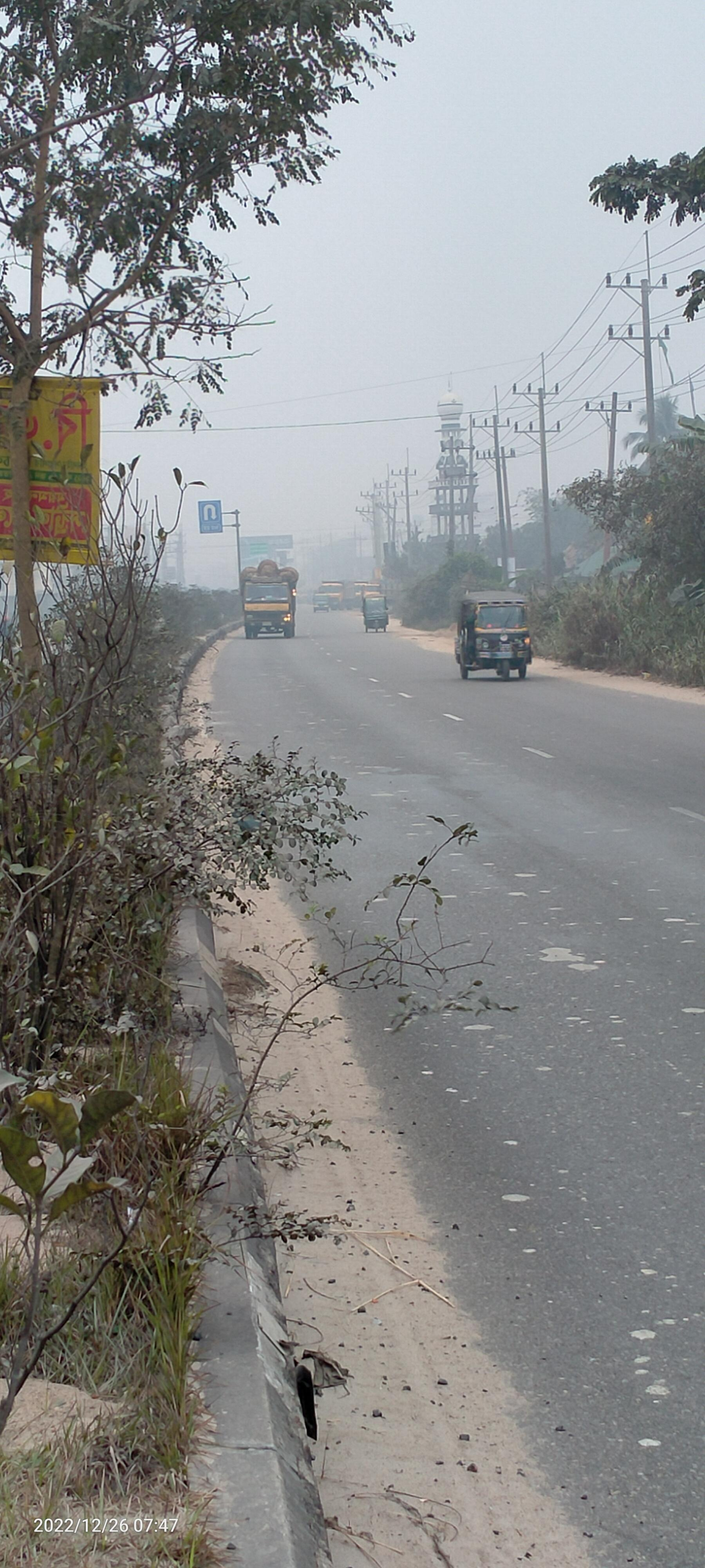Car: (361, 592, 395, 641)
Truck: (237, 557, 296, 647)
